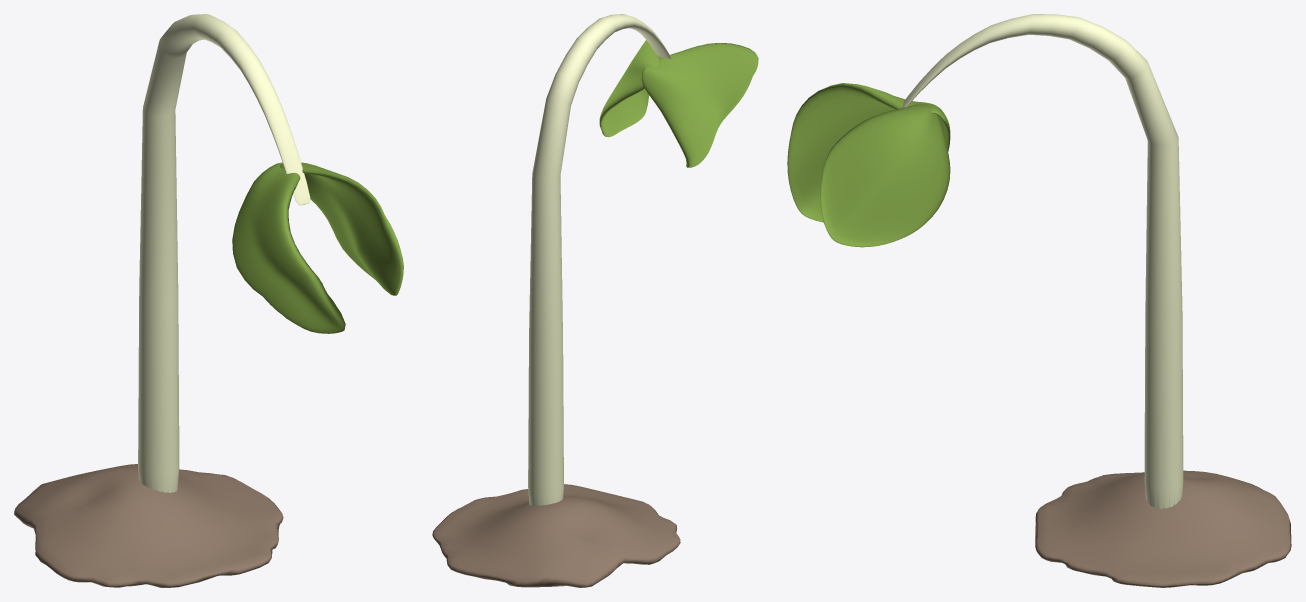
File: sprout animation9.fbx
The picture shows the model from 3 angles, left to right: view 1: azimuth 30°, elevation 25°; view 2: azimuth 150°, elevation 25°; view 3: azimuth 270°, elevation 25°; orthographic projection. The views are drawn at different scales.
Visible parts, largest first — view 1: pPlane1, g_1, middle; view 2: pPlane1, g_1, middle; view 3: pPlane1, middle, g_1.
Boxes of the visible parts, box(x1,y1,x2,y2) form: pPlane1: box(14, 464, 283, 587); g_1: box(138, 14, 310, 492); middle: box(232, 162, 403, 333); pPlane1: box(432, 484, 680, 587); g_1: box(528, 14, 671, 505); middle: box(599, 40, 758, 167); pPlane1: box(1035, 470, 1291, 587); middle: box(787, 83, 950, 247); g_1: box(901, 14, 1183, 508).
Bounding box in the file's own units: 0.6581 × 1.46 × 1.28.
